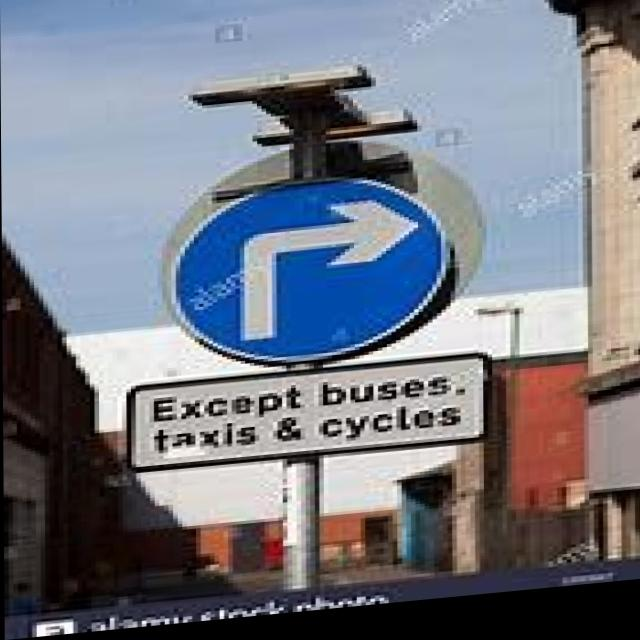COMPULSARY_TURN_RIGHT_AHEAD: (158, 178, 458, 384)
